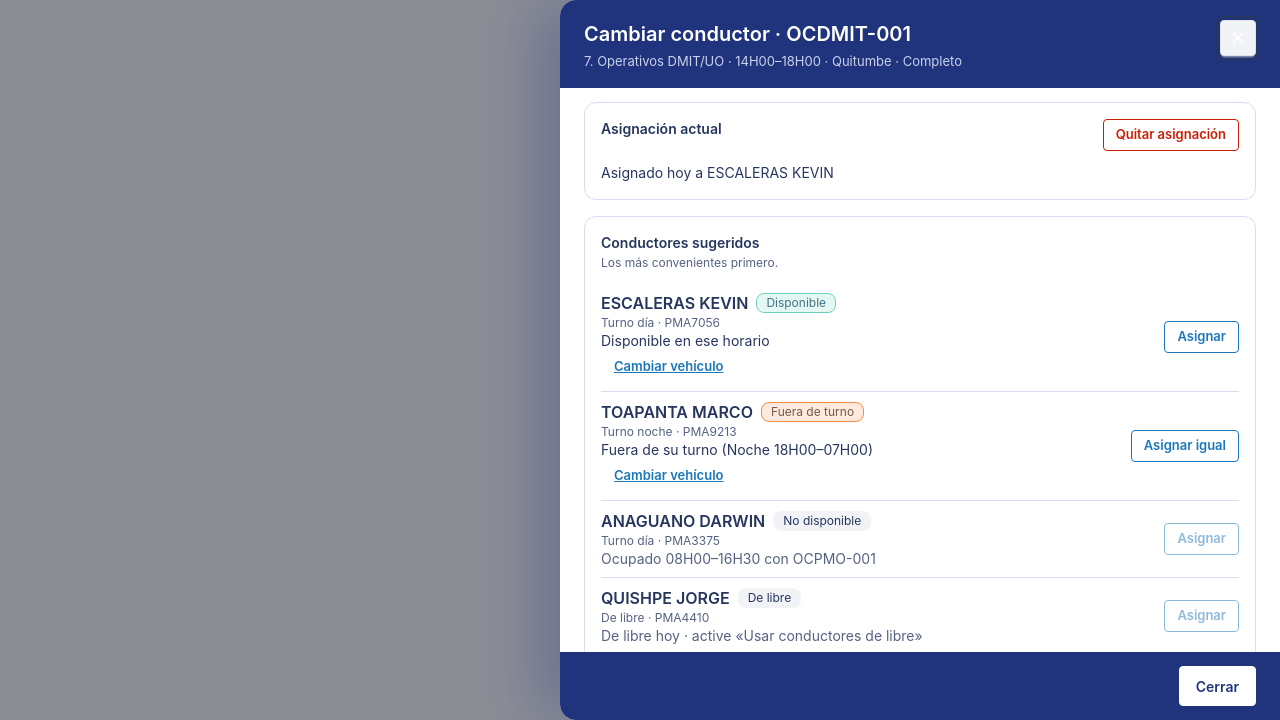
Cajón «Asignar / Cambiar conductor» › si el servidor rechaza «Quitar asignación», el error queda en la misma confirmación
The width and height of the screenshot is (1280, 720).
Click the button "Quitar asignación" at (1171, 134), box [1103, 118, 1239, 150]
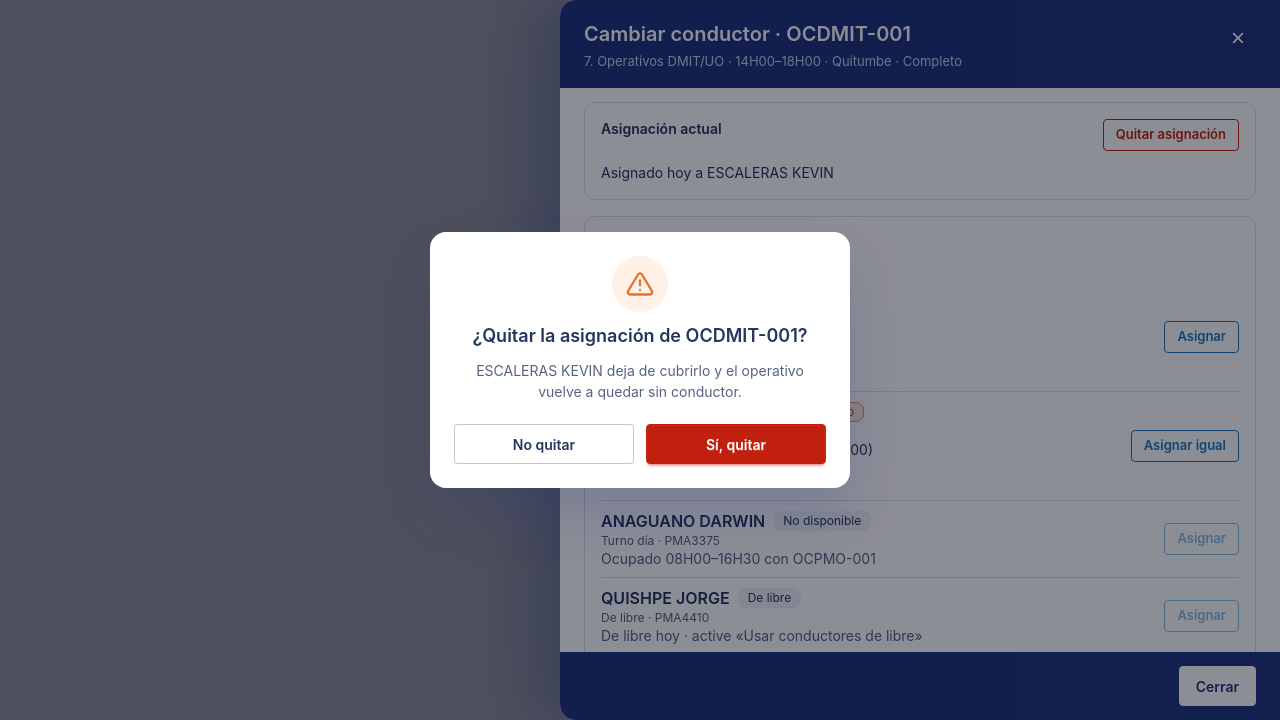
Click the button "Sí, quitar" at (736, 444), box [646, 424, 826, 464]
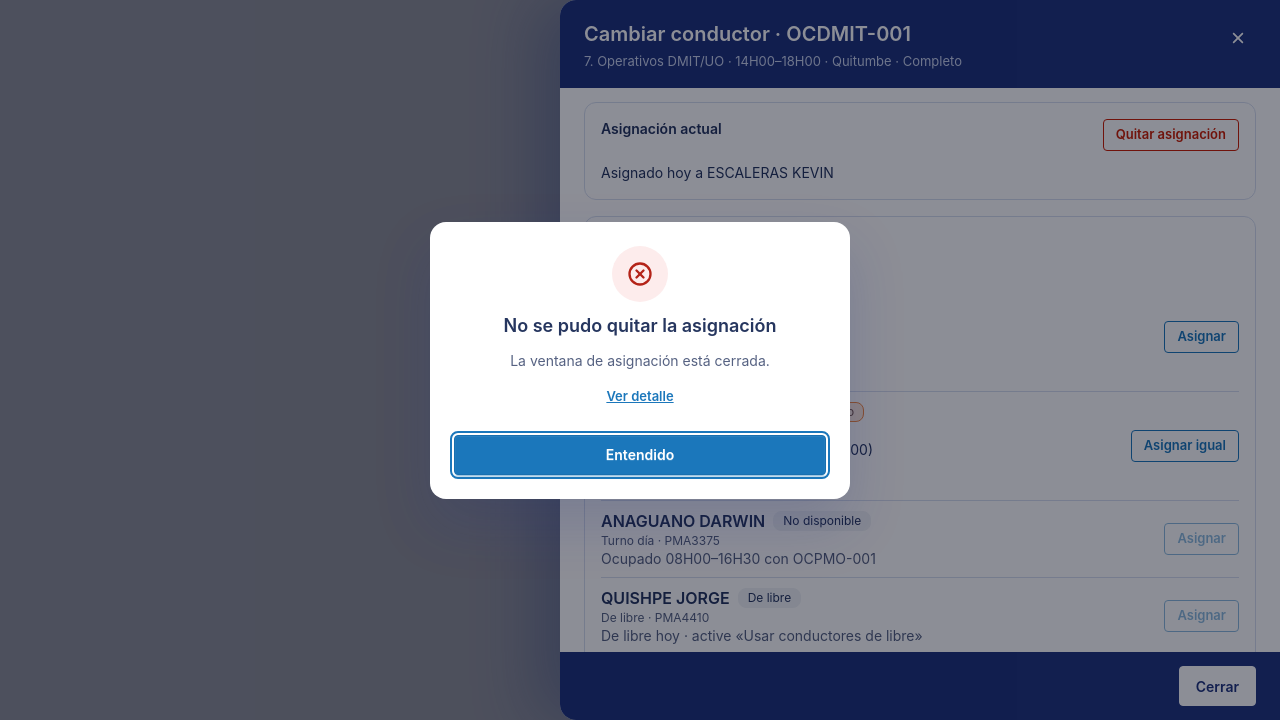
Expected: the dialog "Cambiar conductor · OCDMIT-001" is shown, [560, 0, 1279, 719]
Now the dialog "No se pudo quitar la asignación" is shown, box [430, 222, 850, 498]
